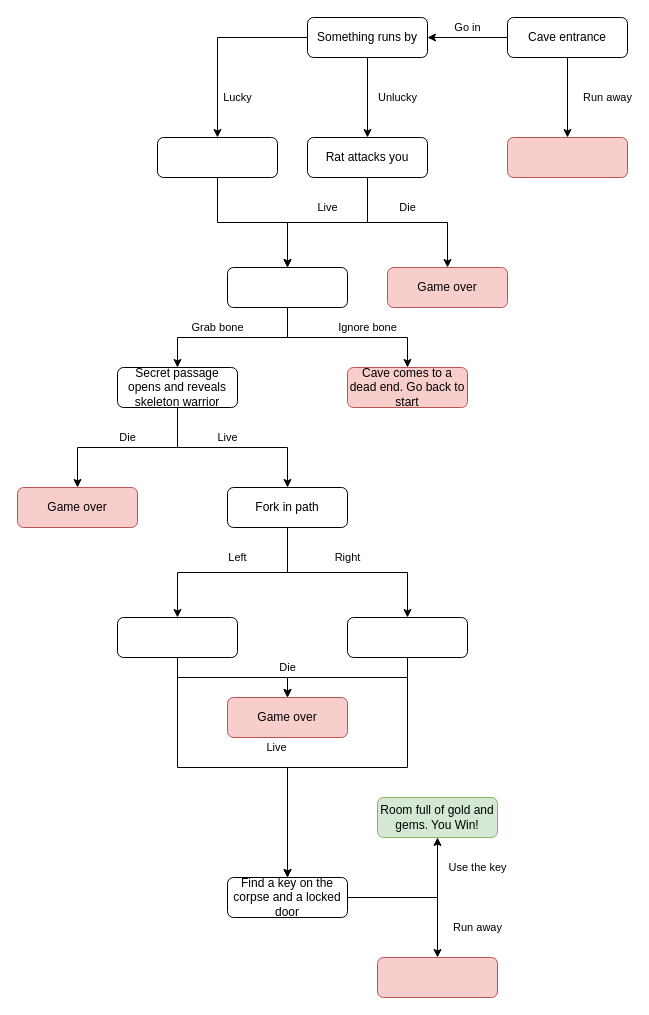
This 649x1015 diagram has some shape labels left out. The centre of each missing label's shape, as x and y in pixels:
Adventure never starts: the point at 567,157
Many enemies attack: the point at 407,637
Ogre attacks: the point at 177,637
Rat runs away: the point at 217,157
Run away in fear of a trap. Go back to start: the point at 437,977
Skeleton leaned against wall with shiny bone: the point at 287,287
